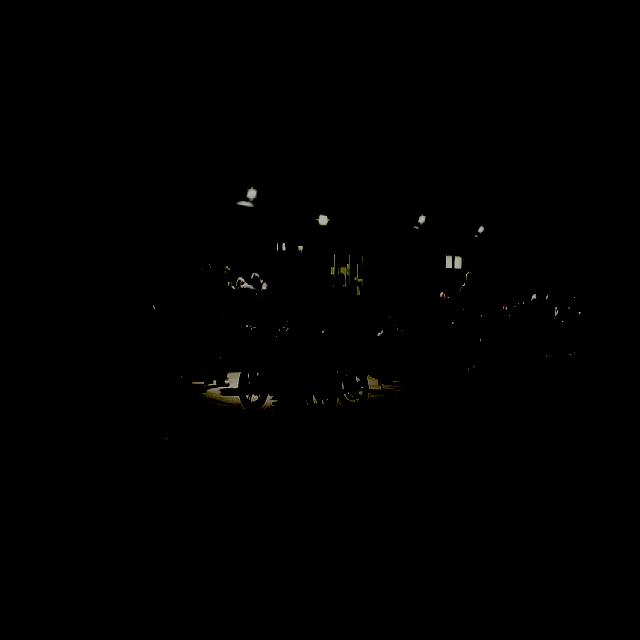Motorbike: (370, 293, 600, 379), (239, 306, 369, 419)
